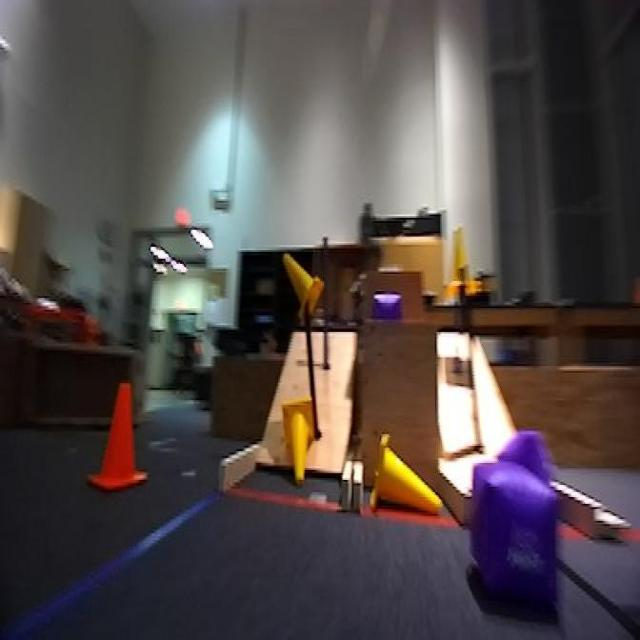frc_cone: (372, 439, 439, 518), (274, 243, 330, 332), (280, 395, 321, 494), (437, 224, 480, 304)
frc_cube: (469, 458, 563, 591), (499, 432, 560, 533), (370, 288, 406, 328)
